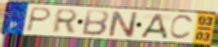A: (138, 13, 169, 41)
B: (80, 9, 111, 37)
C: (168, 14, 196, 41)
N: (107, 10, 139, 39)
P: (24, 6, 54, 33)
R: (50, 8, 80, 34)
